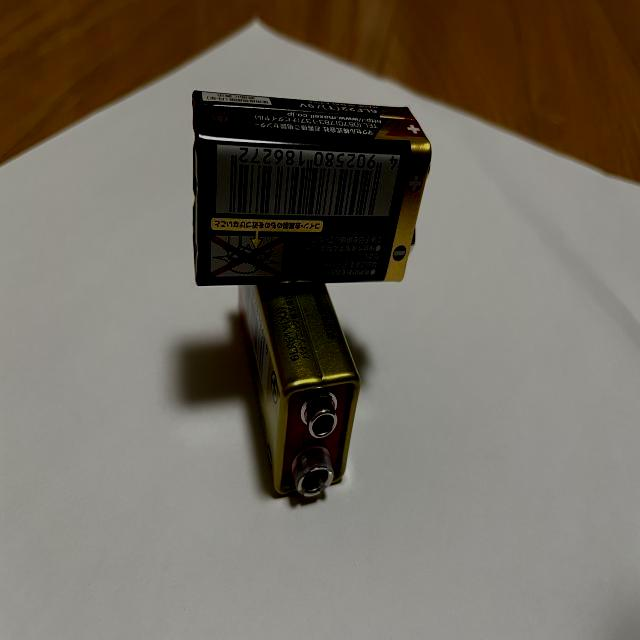9V: (191, 89, 433, 286), (237, 281, 362, 499)
